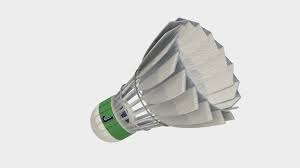shuttle: (79, 13, 239, 149)
